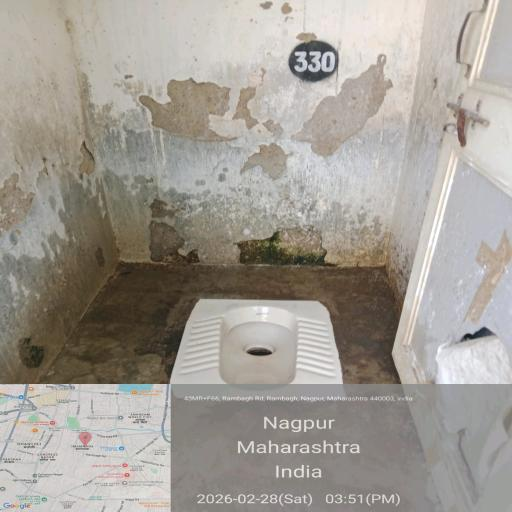damage: (433, 334, 512, 384)
partial_dirty_floor: (0, 2, 451, 139), (37, 150, 432, 280), (78, 267, 427, 392)
